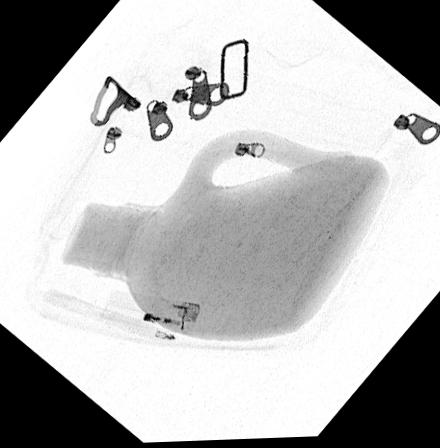Lighter: (98, 289, 200, 335)
